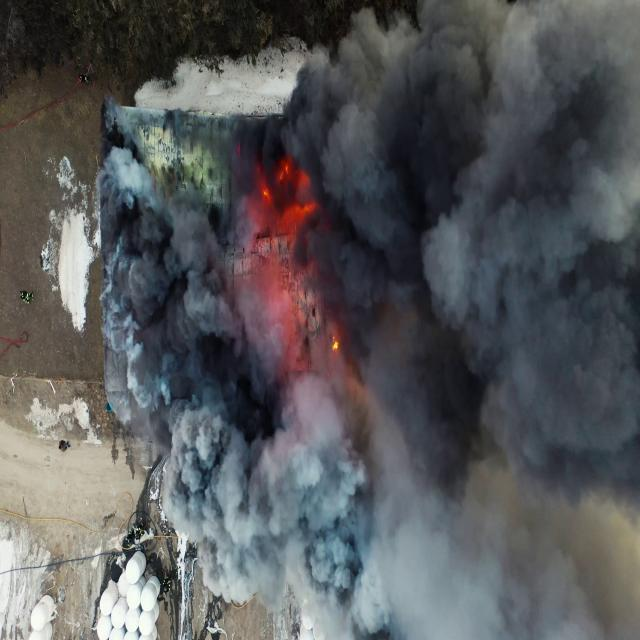Smoke: (108, 2, 640, 634)
